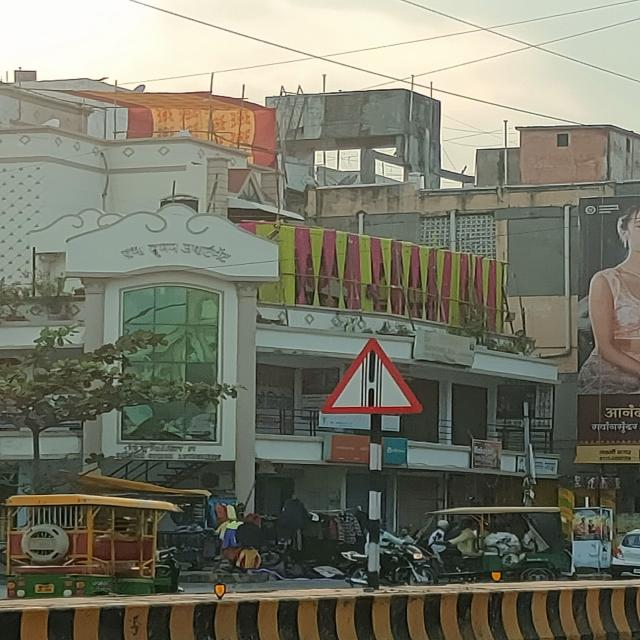GAP_IN_MEDIAN: (320, 339, 424, 414)
